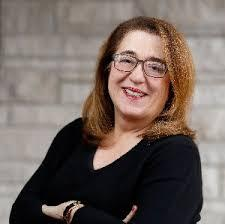Persons: (93, 13, 197, 136)
